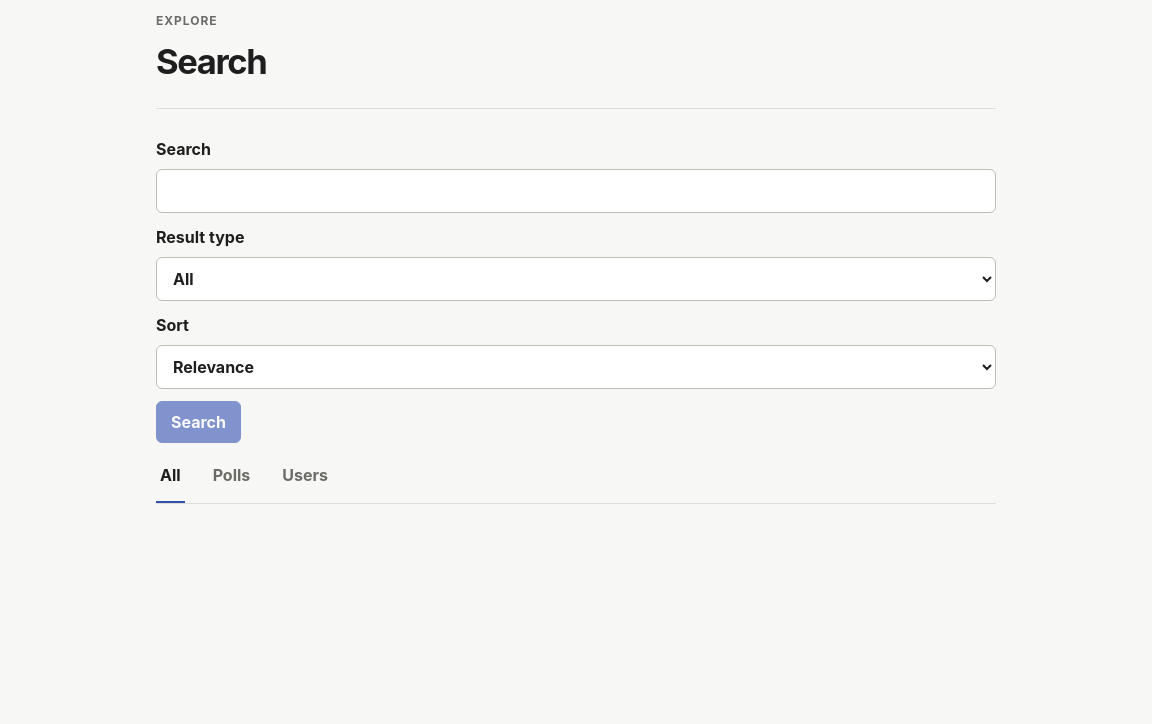
Test: ignores an old search response when sort changes and permits a new search
Type "climate" into the field labelled "Search" at (576, 191), box [156,169,996,213]
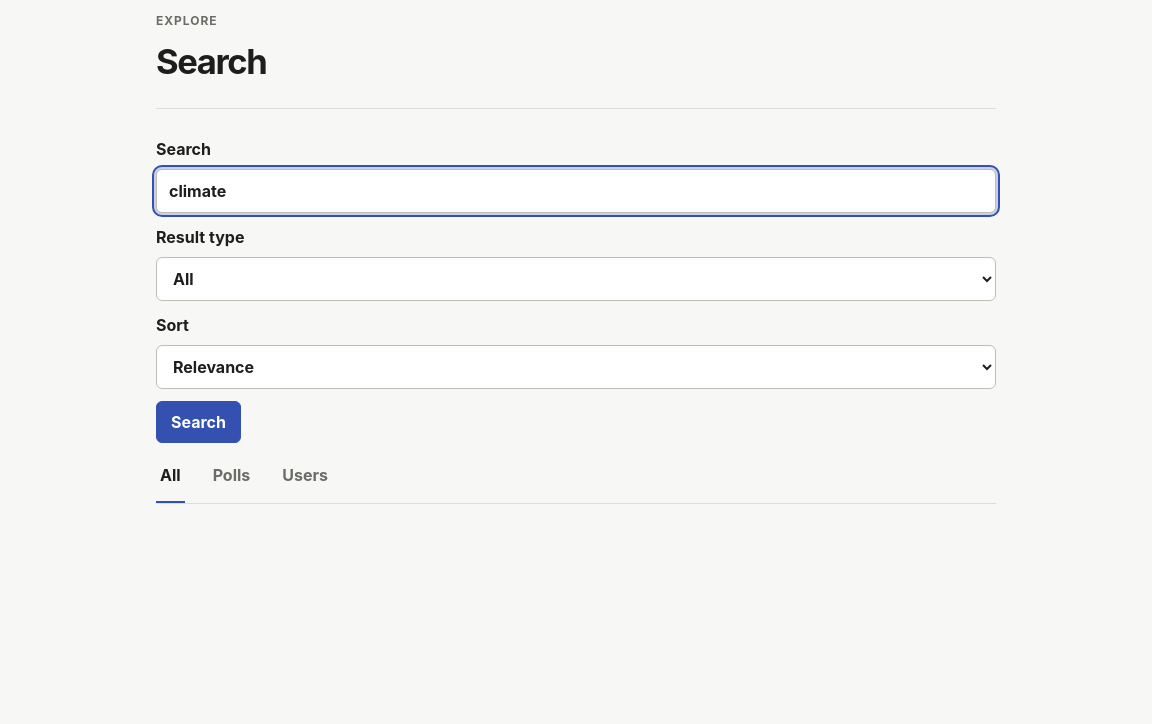
Click the button "Search" at (198, 422), box [156,401,241,443]
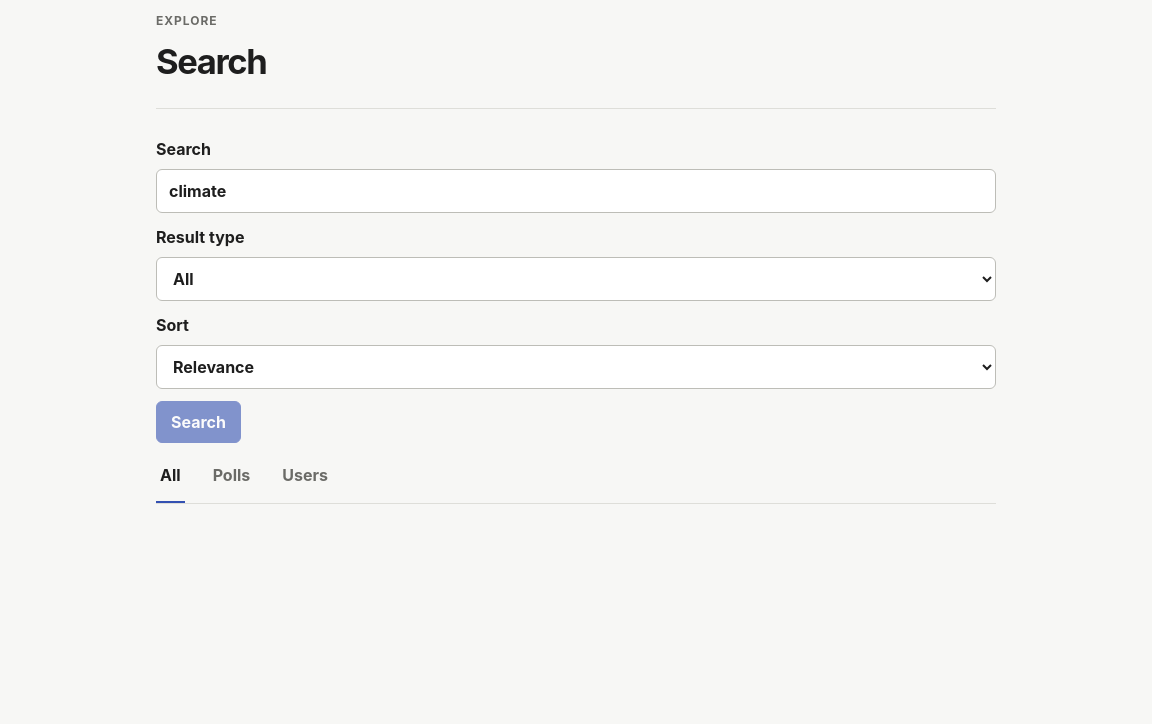
Select "Newest" in the dropdown labelled "Sort" at (576, 367), box [156,345,996,389]
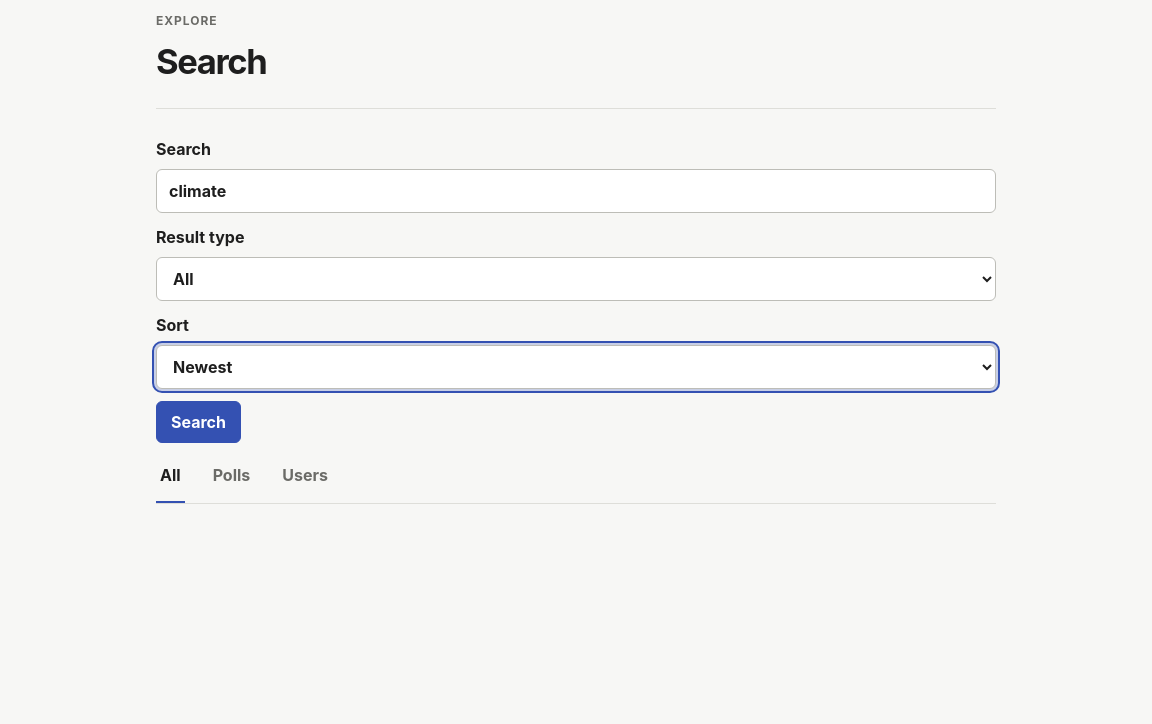
Now the button "Search" is enabled
Click the button "Search" at (198, 422), box [156,401,241,443]
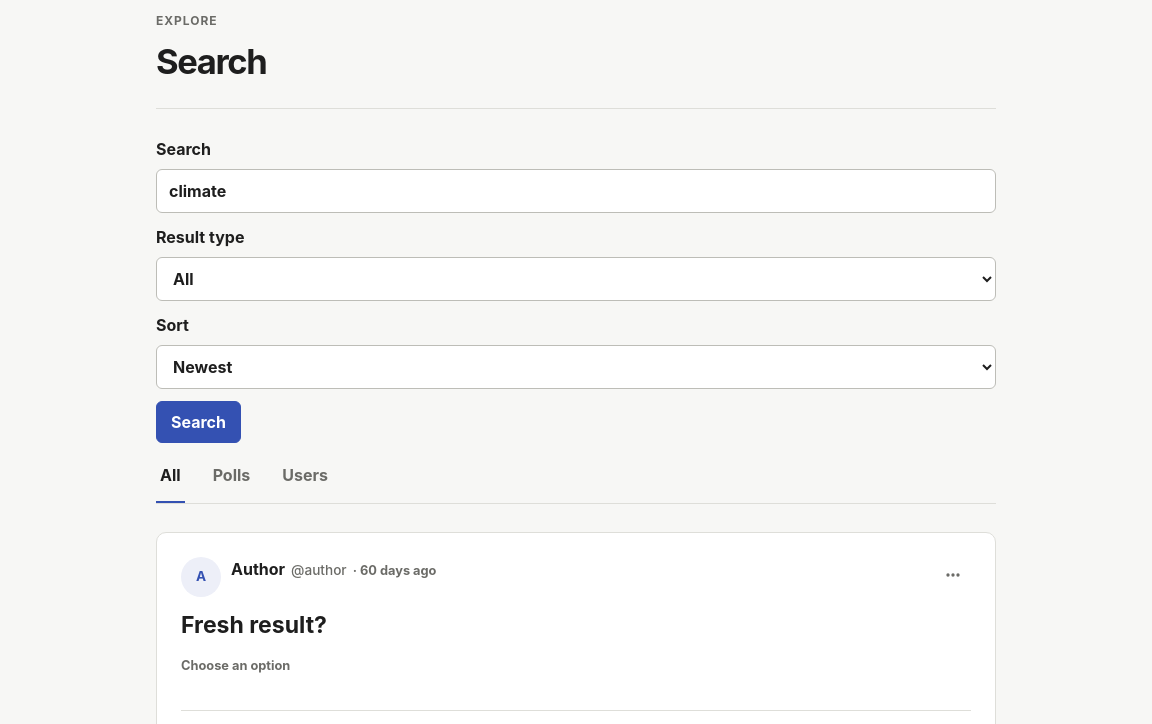
Now the link "Fresh result?" is shown, box [181,611,327,639]
